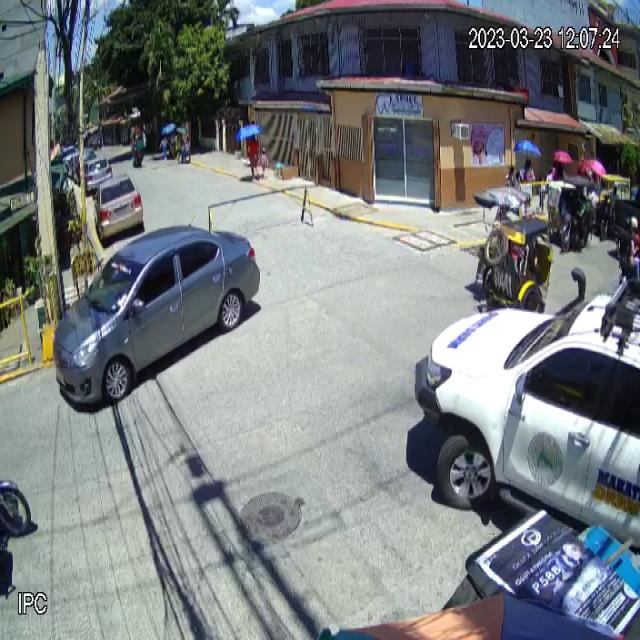Car: (52, 226, 260, 407)
Tricycle: (473, 190, 555, 318)
